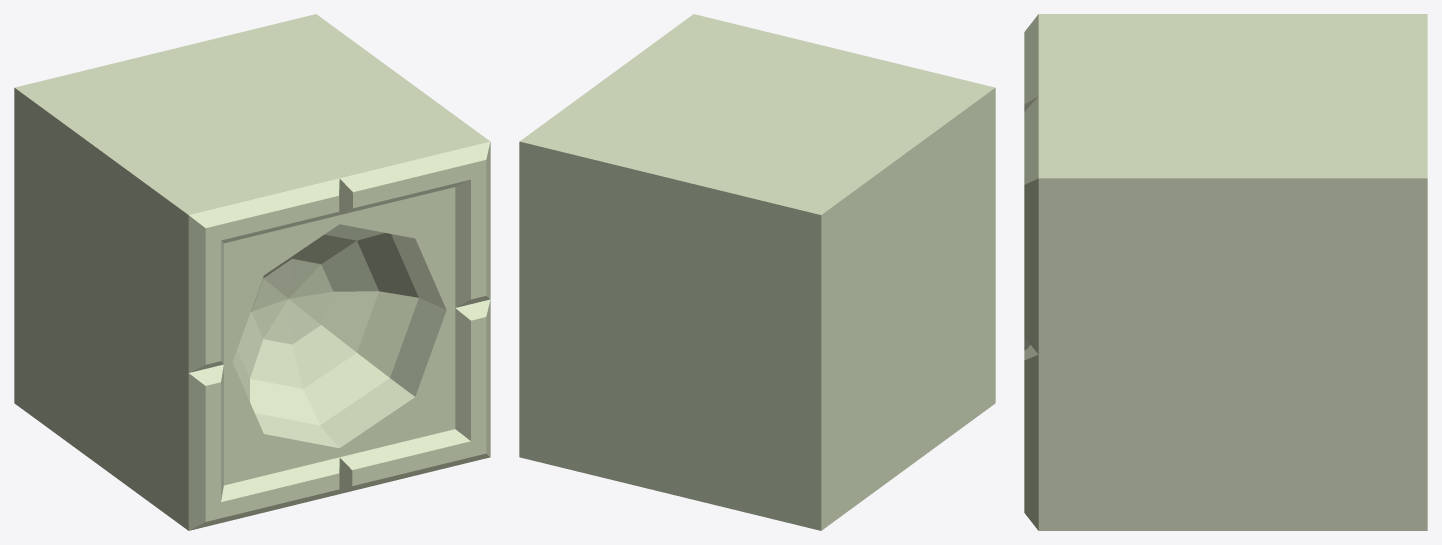
3 renders of one model, left to right at view 1: azimuth 30°, elevation 25°; view 2: azimuth 150°, elevation 25°; view 3: azimuth 270°, elevation 25°, orthographic. The views are drawn at different scales.
Visible parts, largest first — view 1: Base; view 2: Base; view 3: Base.
Part boxes in pixels (bbox=[...]): Base: bbox=[14, 14, 490, 530]; Base: bbox=[519, 14, 995, 530]; Base: bbox=[1024, 14, 1427, 530].
Size of the model in its own units: 1 by 1 by 1.04.
